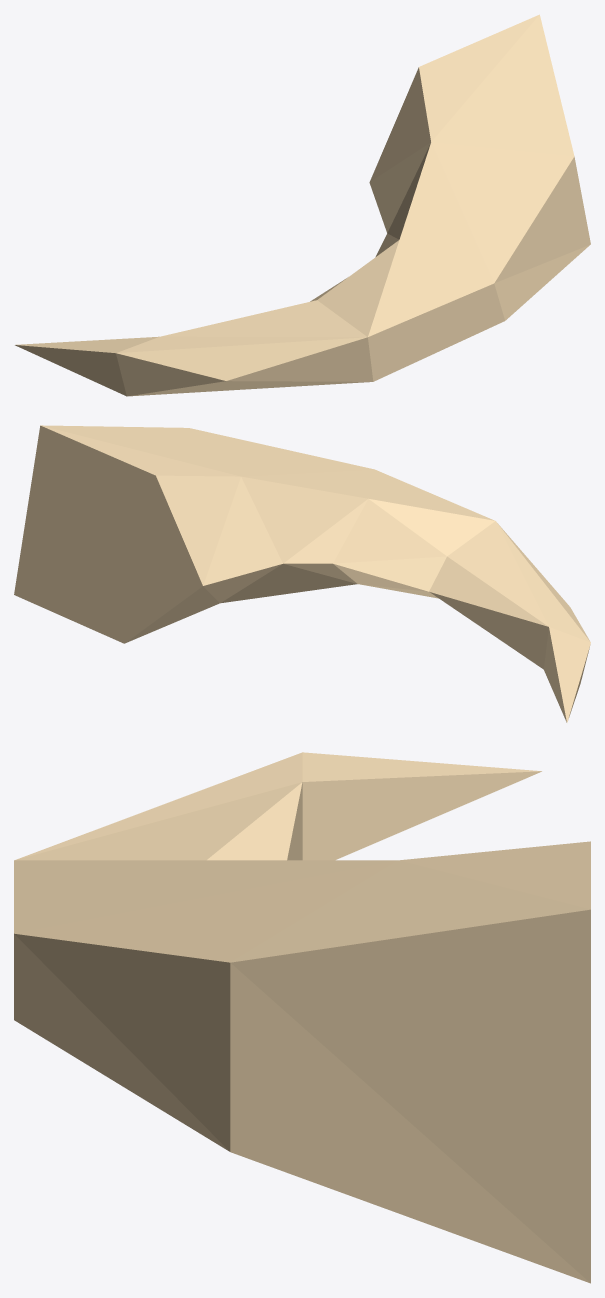
File: curvedbone.obj
3 renders of one model, top to bottom at view 1: azimuth 30°, elevation 25°; view 2: azimuth 150°, elevation 25°; view 3: azimuth 270°, elevation 25°, orthographic. The views are drawn at different scales.
Parts seen in each view (by area): view 1: curvedbone_back; view 2: curvedbone_back; view 3: curvedbone_back.
Part boxes in pixels (x1,y1,x2,y2): curvedbone_back: (15, 14, 590, 396); curvedbone_back: (14, 425, 590, 722); curvedbone_back: (14, 752, 590, 1283).
Bounding box in the file's own units: 1.03 × 0.36 × 0.48.
